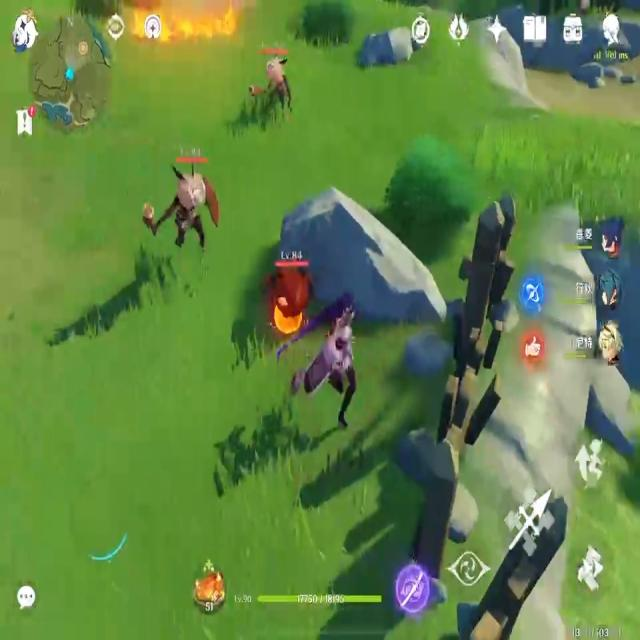genshin-hilichurls: (144, 144, 219, 266), (240, 43, 296, 130), (276, 248, 316, 332)
